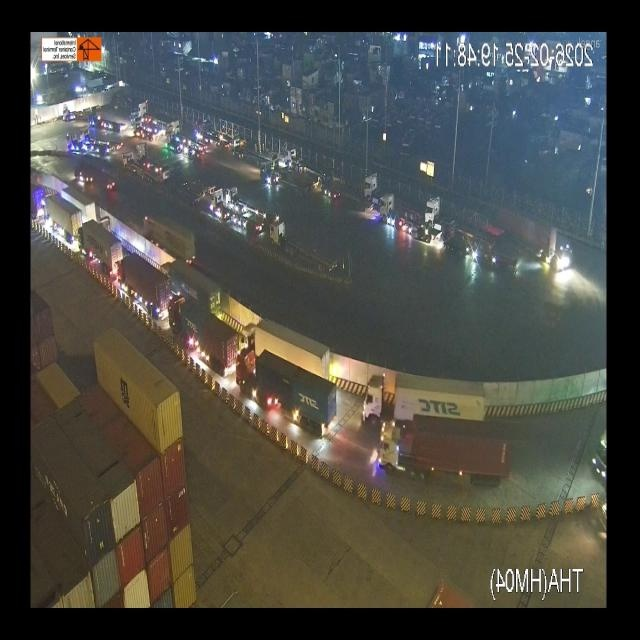truck: (41, 193, 606, 245), (87, 215, 568, 276), (157, 252, 524, 323), (184, 292, 475, 380), (176, 252, 484, 317), (262, 343, 410, 445), (237, 309, 403, 379), (367, 424, 517, 487), (362, 372, 490, 425), (421, 196, 491, 254), (376, 191, 426, 240), (362, 164, 390, 208)
